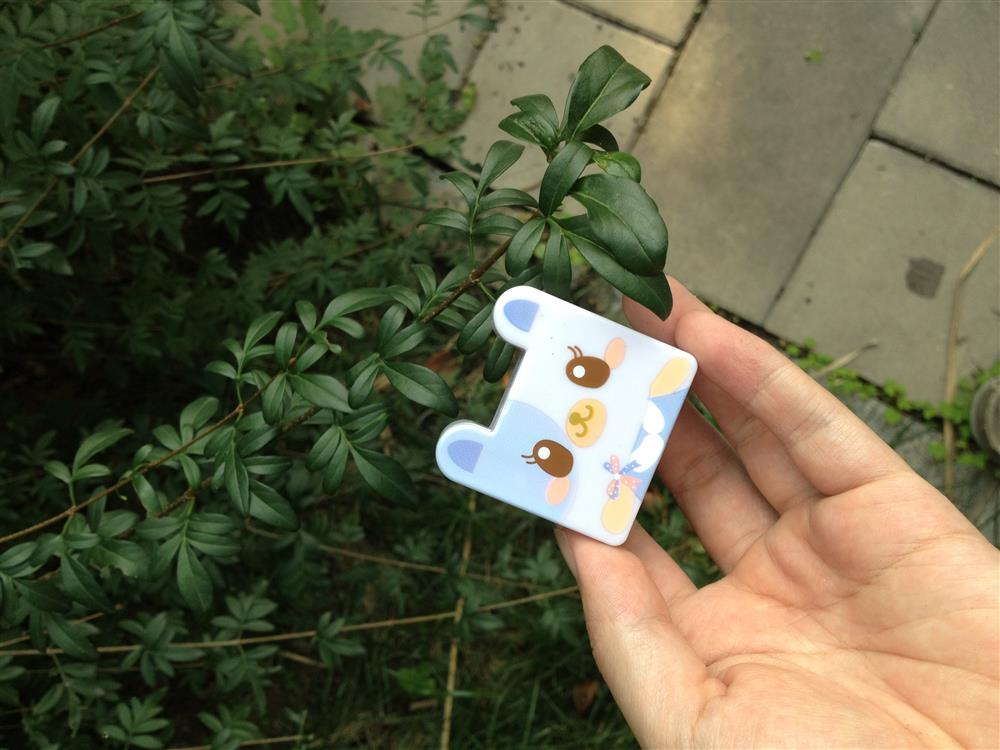dog_sharpener: (434, 283, 697, 546)
